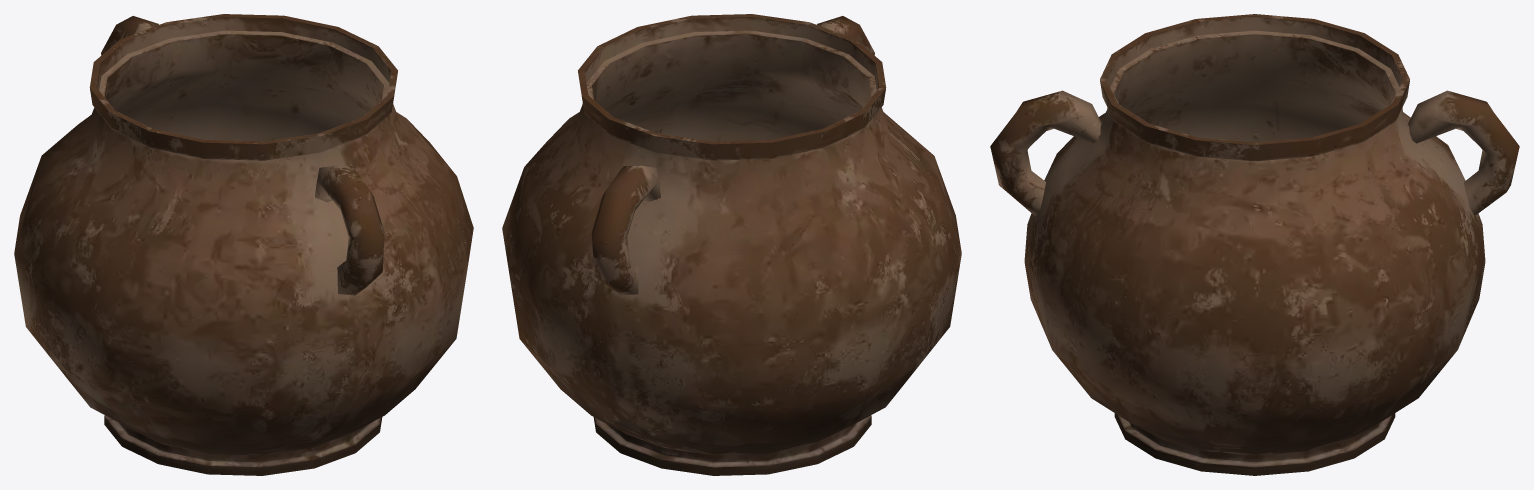
File: claypot.glb
3 renders of one model, left to right at view 1: azimuth 30°, elevation 25°; view 2: azimuth 150°, elevation 25°; view 3: azimuth 270°, elevation 25°, orthographic.
Visible parts, largest first — view 1: Окружность.001, Тор.001; view 2: Окружность.001, Тор.001; view 3: Окружность.001, Тор.001.
Part boxes in pixels (x1=…): Окружность.001: x1=14, y1=14, x2=473, y2=475; Тор.001: x1=101, y1=16, x2=384, y2=295; Окружность.001: x1=502, y1=14, x2=961, y2=475; Тор.001: x1=591, y1=16, x2=874, y2=295; Окружность.001: x1=1024, y1=14, x2=1485, y2=475; Тор.001: x1=990, y1=90, x2=1519, y2=215.
Bounding box in the file's own units: 0.6988 × 0.5618 × 0.8.
1 material, 1 textured.
